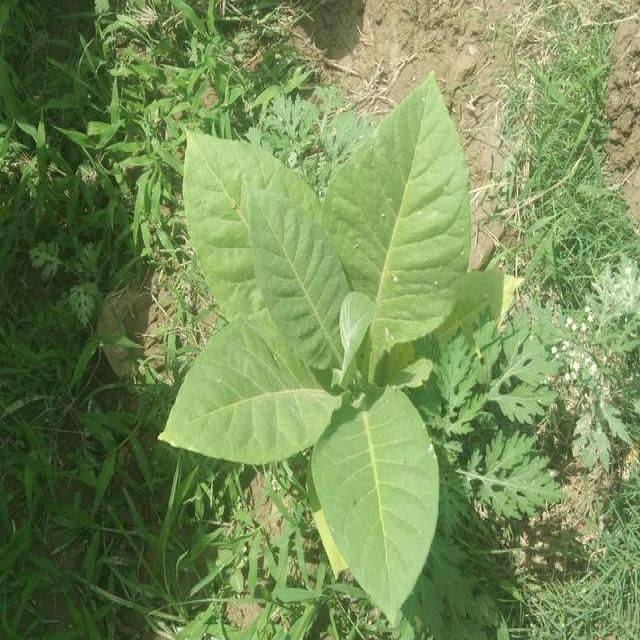crop: (162, 70, 499, 624)
